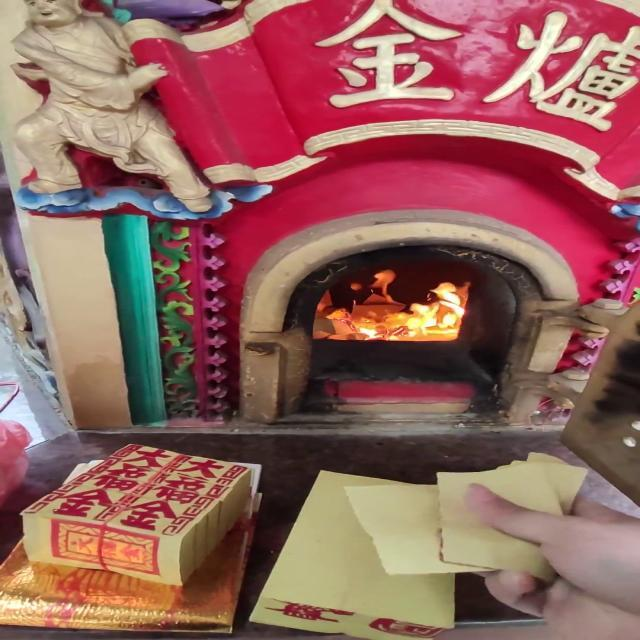Fire: (324, 275, 478, 340)
